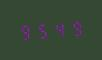five: (34, 21, 49, 40)
four: (50, 20, 65, 38)
nine: (18, 22, 33, 41), (66, 18, 81, 37)
